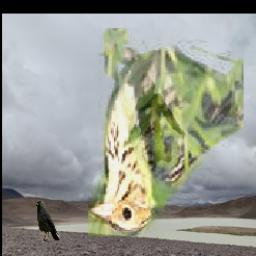Crow: (36, 201, 61, 241)
Sparrow: (88, 28, 244, 236)
